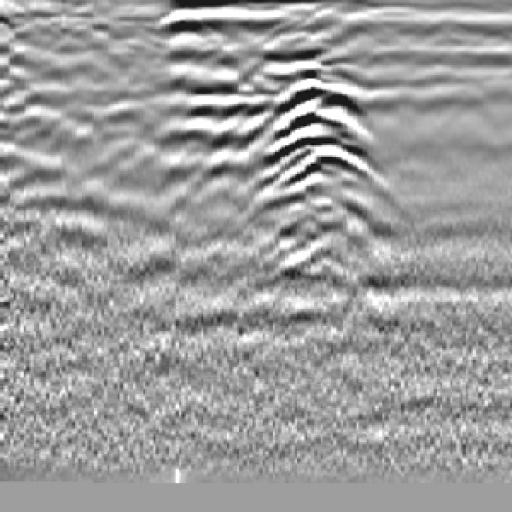metalic: (247, 47, 383, 220)
